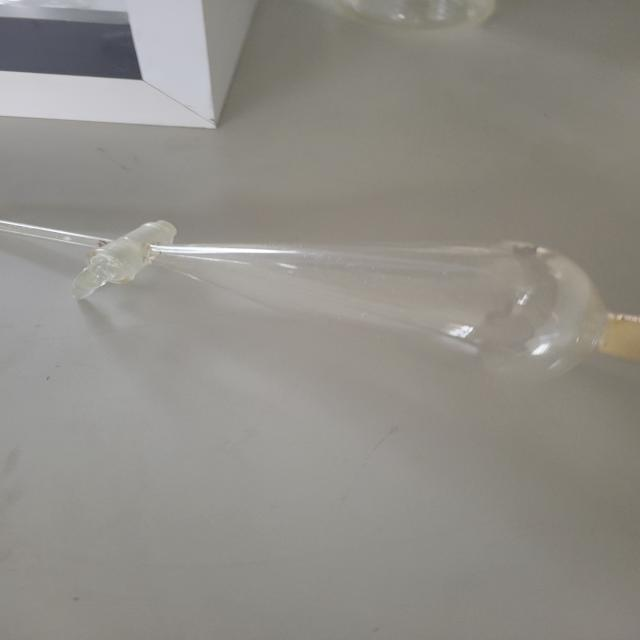Separating_Funnel: (11, 146, 640, 399)
